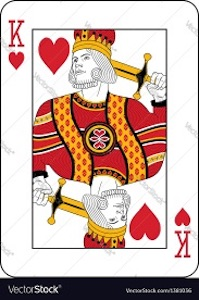KingOfHearts: (1, 1, 199, 280)
